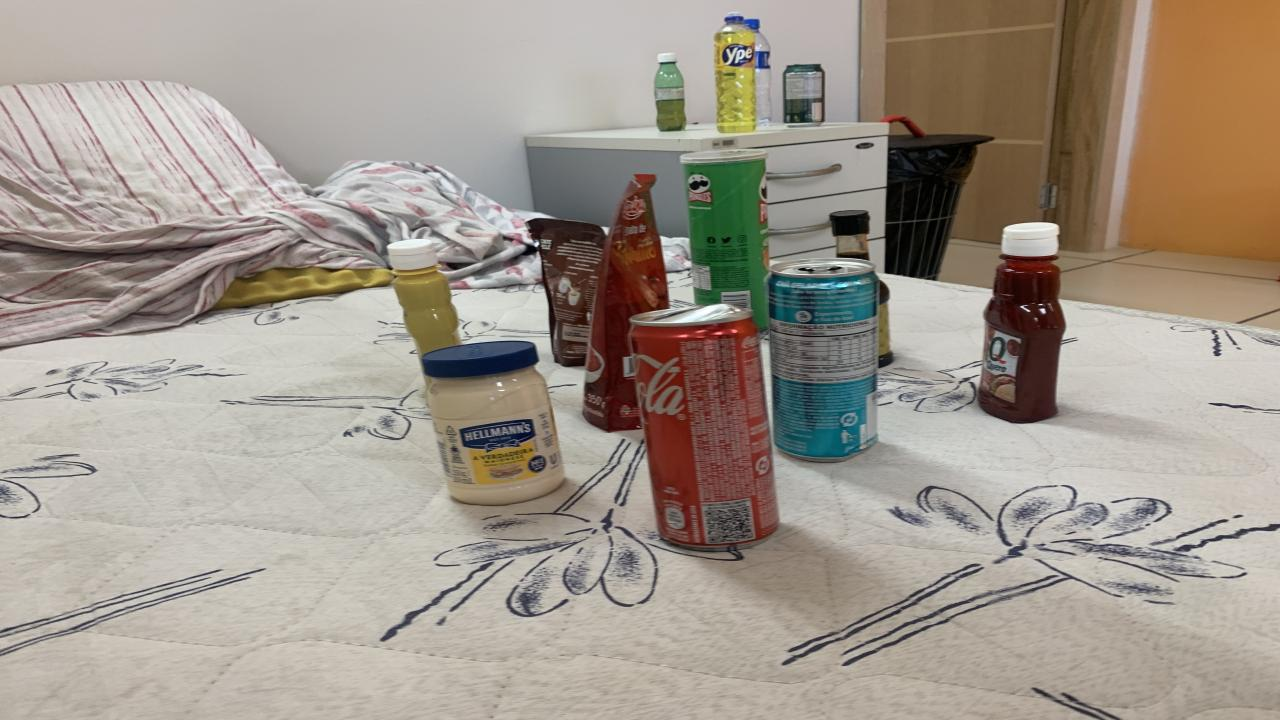Coffee-Pantry_Items: (628, 304, 780, 551), (528, 218, 605, 368)
Detergent-Cleanup_Items: (715, 13, 755, 133)
English_Sauce-Pantry_Items: (830, 210, 870, 261), (878, 281, 892, 368)
Guarana-Drinks: (782, 64, 825, 126), (655, 52, 685, 131)
Ketchup-Pantry_Items: (978, 221, 1065, 422)
Mayonnaise-Pantry_Items: (422, 339, 565, 504)
Mustard-Pantry_Items: (388, 238, 460, 356)
Pringles-Snacks: (680, 150, 768, 328)
Tea-Drinks: (768, 259, 878, 461)
Tomato_Sauce-Pantry_Items: (582, 174, 670, 431)
Water_Bottle-Drinks: (745, 19, 772, 126)
